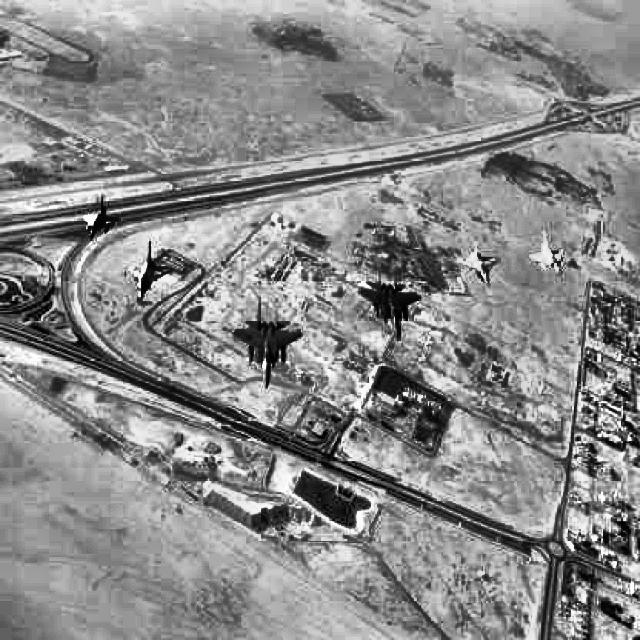F15: (232, 297, 303, 389), (358, 261, 419, 341)
Mirage2000: (83, 194, 120, 240), (528, 232, 564, 276)
Rafale: (124, 240, 173, 300), (455, 234, 500, 288)
